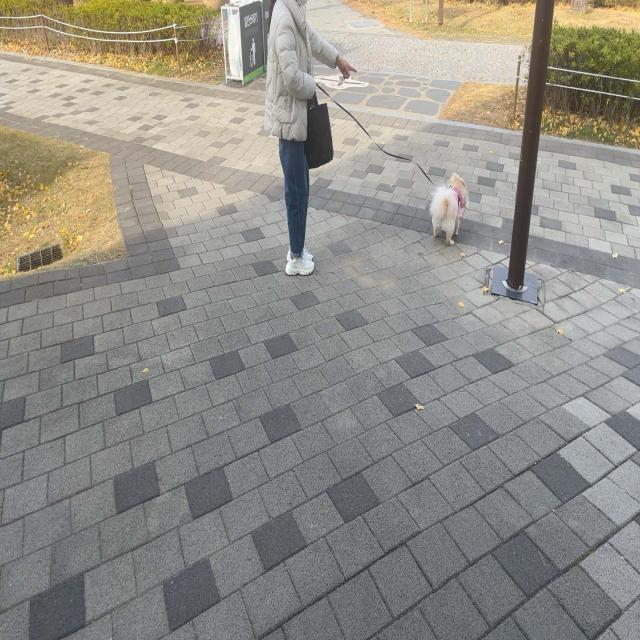Leashed_Dog: (286, 85, 469, 247)
